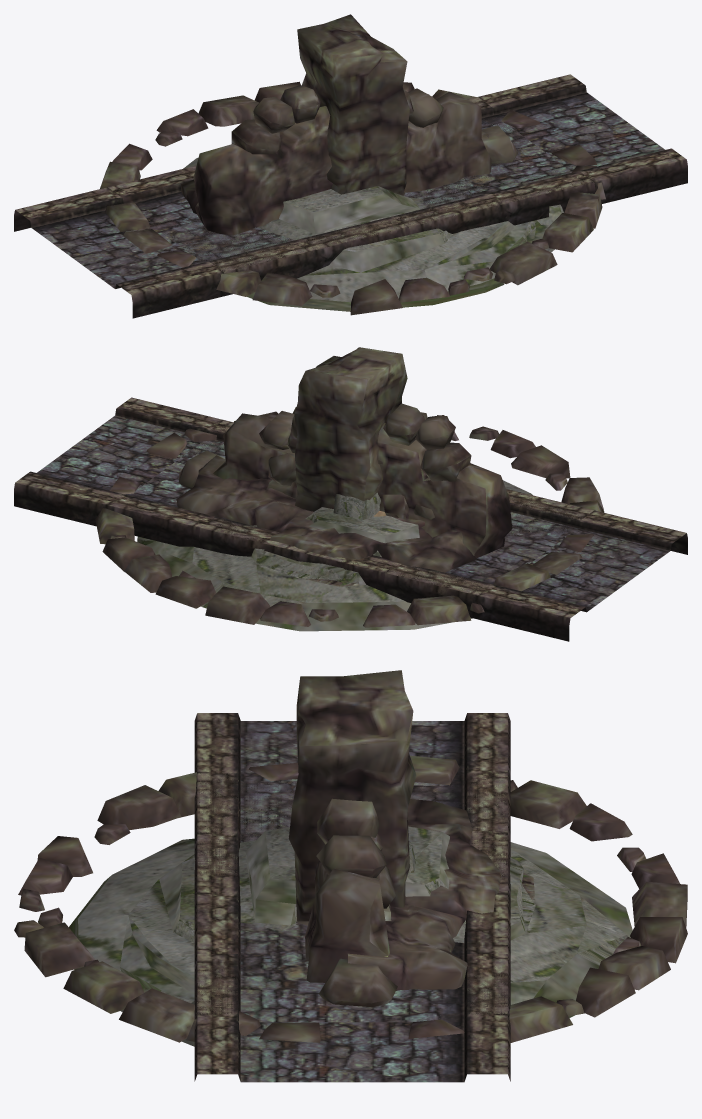
Rendered from RenGong.fbx.
The picture shows the model from 3 angles, top to bottom: view 1: azimuth 30°, elevation 25°; view 2: azimuth 150°, elevation 25°; view 3: azimuth 270°, elevation 25°; orthographic projection. The views are drawn at different scales.
Parts seen in each view (by area): view 1: RenGong_15, RenGong_11, RenGong_14, RenGong_10, RenGong_48, RenGong_31; view 2: RenGong_15, RenGong_10, RenGong_11, RenGong_31, RenGong_48, RenGong_30, RenGong_14, RenGong_12, RenGong_50; view 3: RenGong_15, RenGong_10, RenGong_48, RenGong_14, RenGong_31, RenGong_11, RenGong_30, RenGong_12.
Boxes of the visible parts, left/top/right/bottom form: RenGong_15: left=14, top=74, right=687, bottom=318; RenGong_11: left=193, top=85, right=518, bottom=235; RenGong_14: left=108, top=97, right=595, bottom=295; RenGong_10: left=100, top=81, right=605, bottom=315; RenGong_48: left=183, top=157, right=563, bottom=311; RenGong_31: left=297, top=14, right=409, bottom=195; RenGong_15: left=14, top=397, right=687, bottom=641; RenGong_10: left=95, top=407, right=604, bottom=627; RenGong_11: left=179, top=403, right=512, bottom=558; RenGong_31: left=294, top=347, right=407, bottom=511; RenGong_48: left=137, top=480, right=532, bottom=631; RenGong_30: left=176, top=455, right=476, bottom=572; RenGong_14: left=129, top=420, right=593, bottom=618; RenGong_12: left=268, top=432, right=434, bottom=519; RenGong_50: left=333, top=492, right=380, bottom=519; RenGong_15: left=194, top=713, right=510, bottom=1082; RenGong_10: left=14, top=755, right=687, bottom=1042; RenGong_48: left=69, top=826, right=632, bottom=1046; RenGong_14: left=194, top=773, right=508, bottom=1022; RenGong_31: left=288, top=670, right=416, bottom=921; RenGong_11: left=305, top=798, right=397, bottom=1007; RenGong_30: left=348, top=799, right=500, bottom=990; RenGong_12: left=371, top=834, right=395, bottom=920.
Size of the model in its own units: 43 by 16.05 by 33.89.
